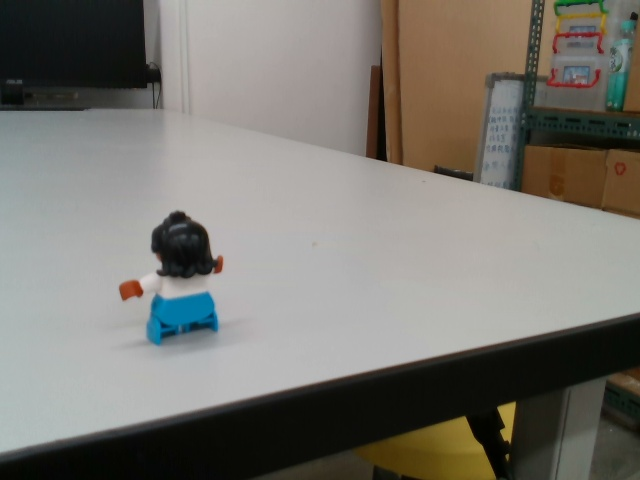people: (118, 208, 224, 346)
